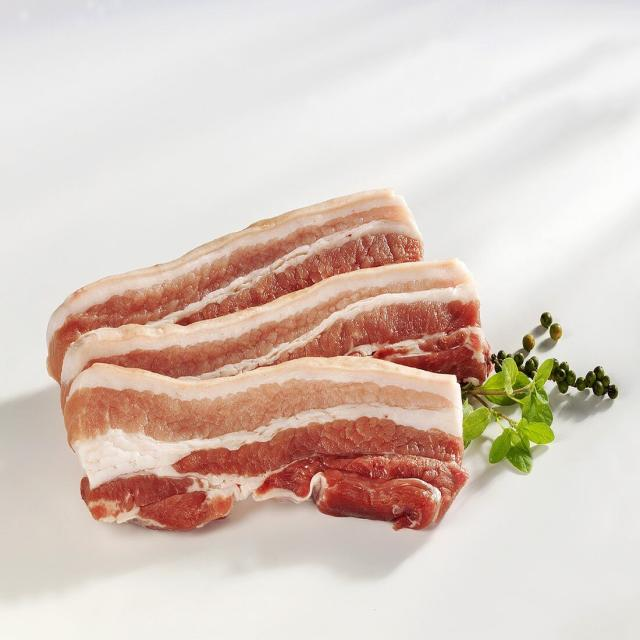Pork: (48, 190, 489, 529)
